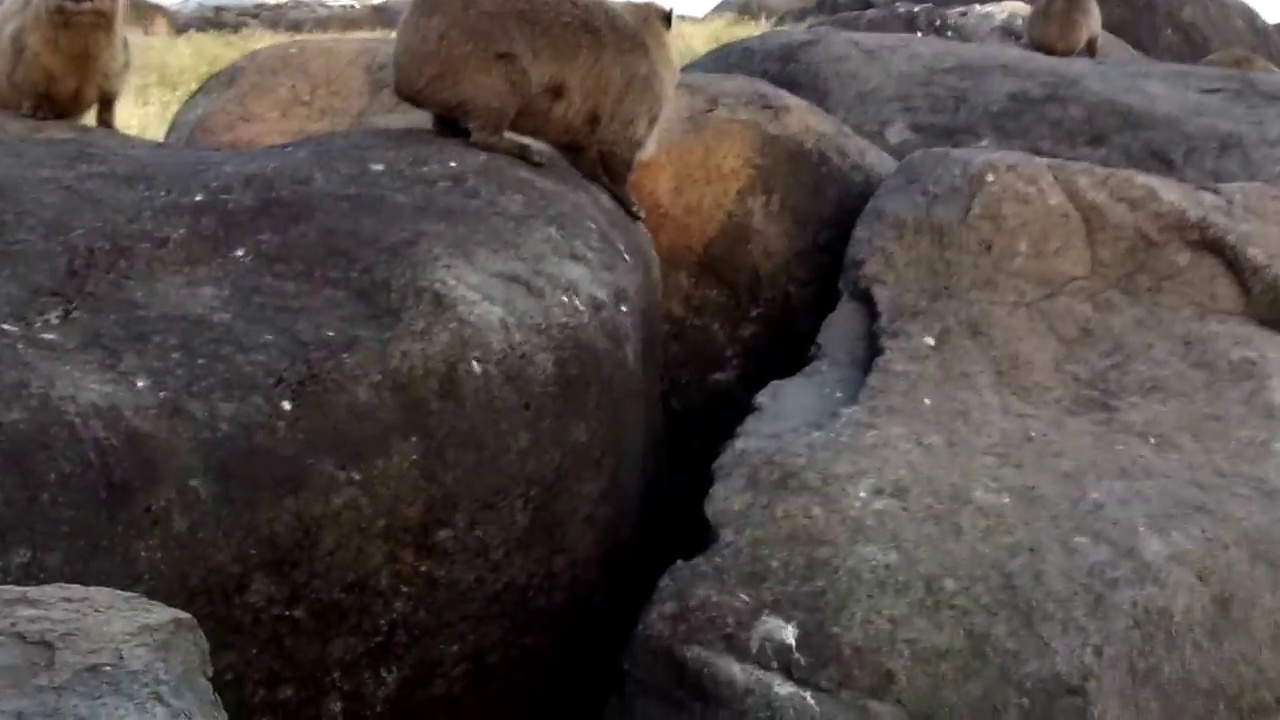Rock Hyrex: (392, 4, 679, 229), (3, 1, 130, 138), (1022, 1, 1106, 57)
